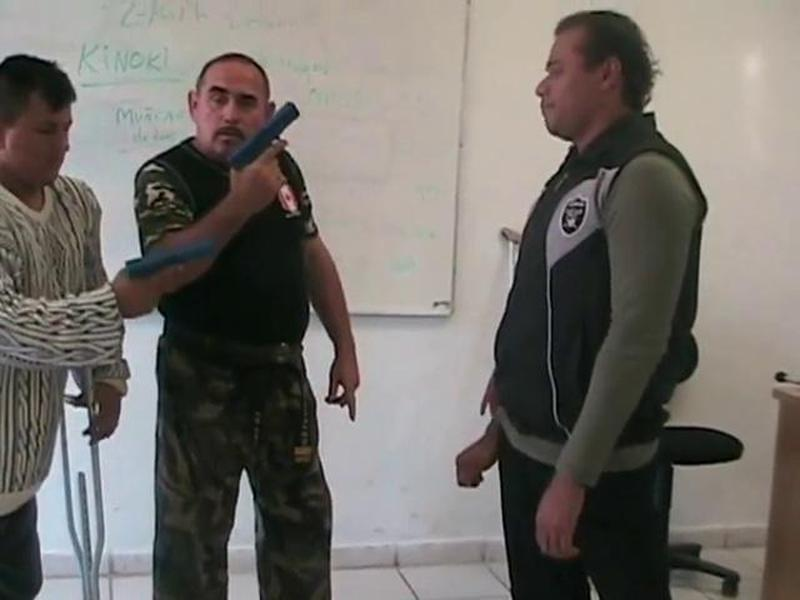Pistola: (226, 96, 313, 192)
